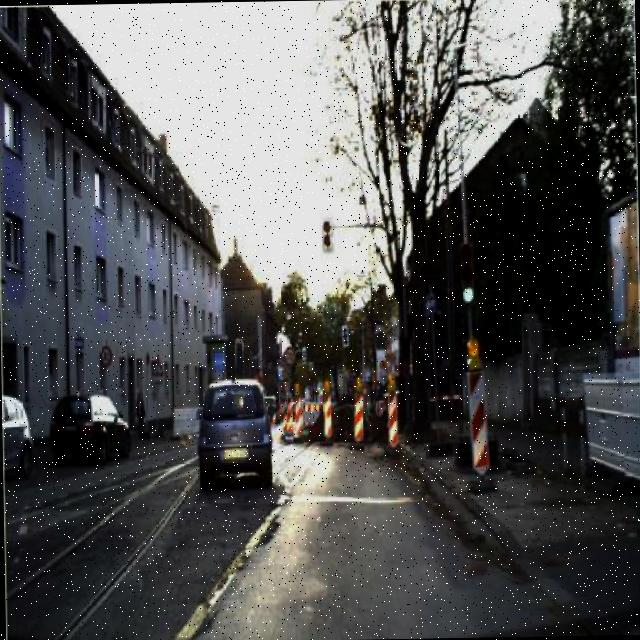Ograniczenie predkosci do 30: (97, 344, 113, 369), (282, 344, 296, 369)
